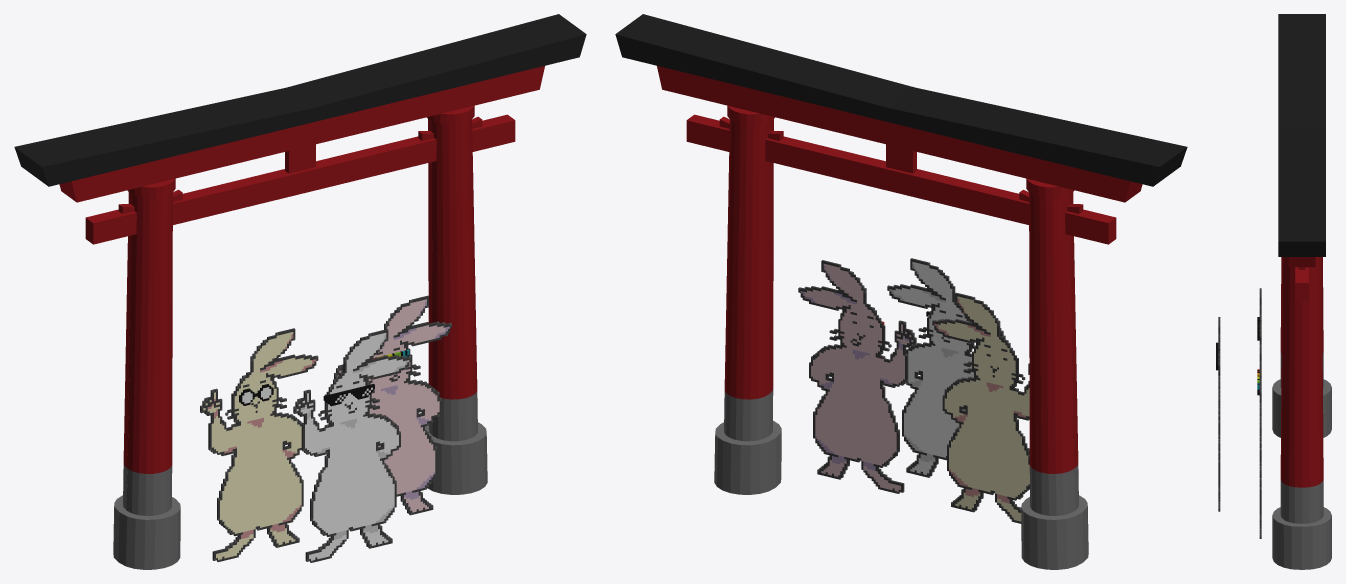
The model's file is USA.glb.
3 renders of one model, left to right at view 1: azimuth 30°, elevation 25°; view 2: azimuth 150°, elevation 25°; view 3: azimuth 270°, elevation 25°, orthographic. The views are drawn at different scales.
Visible parts, largest first — view 1: Cube; view 2: Cube; view 3: Cube.
Part boxes in pixels (x1,y1,x2,y2): Cube: (14,14,586,569); Cube: (615,14,1187,569); Cube: (1216,14,1331,569).
Size of the model in its own units: 8 by 6 by 1.72.
Materials: 4 (1 with a texture image).
